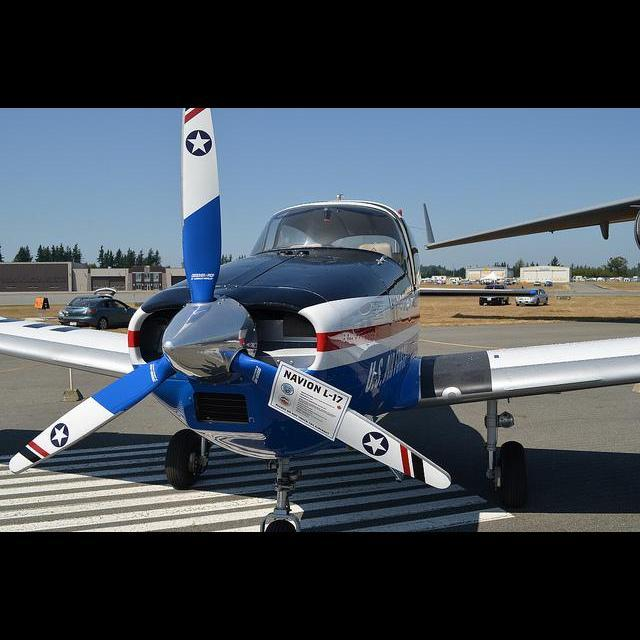airplane: (3, 109, 640, 527), (420, 194, 640, 250)
car: (55, 294, 141, 330), (478, 284, 509, 306), (514, 288, 550, 306), (504, 278, 520, 286), (544, 281, 552, 287), (534, 280, 542, 286)
